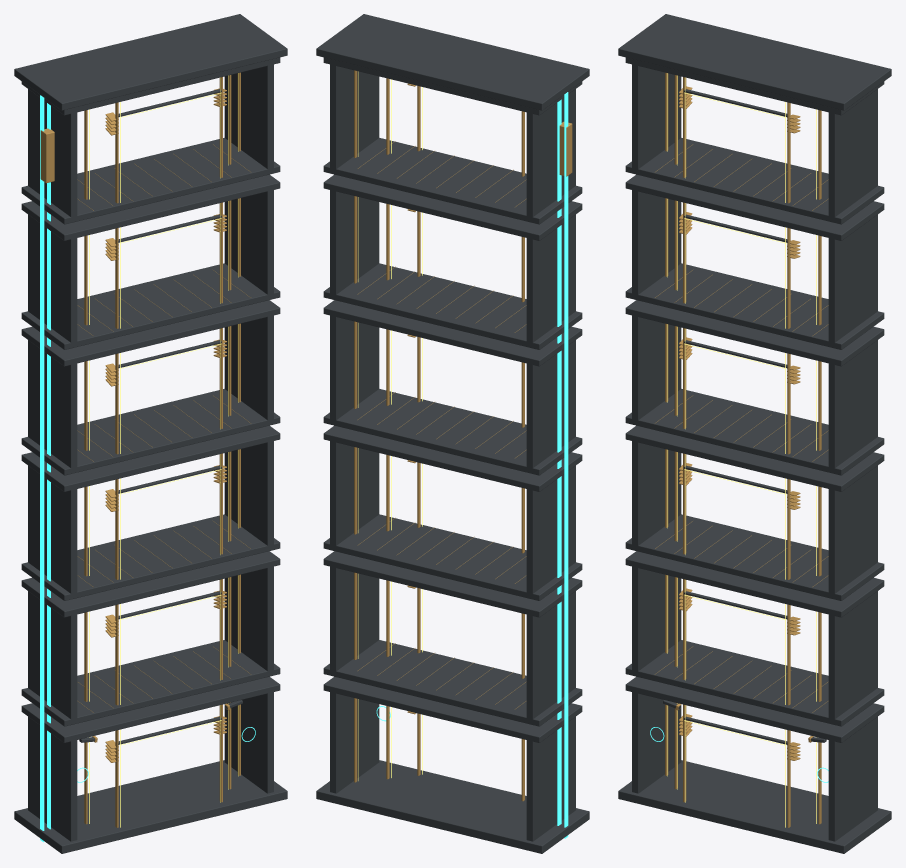
The model's file is tower.glb.
3 views of the same model, side by side, from view 1: azimuth 30°, elevation 25°; view 2: azimuth 150°, elevation 25°; view 3: azimuth 330°, elevation 25° (orthographic).
Parts seen in each view (by area): view 1: Roof, Foundation, Floor_4_slab, Floor_0_slab, Floor_2_slab, Floor_1_slab, Floor_3_slab, Floor_1_ceiling, Floor_3_ceiling, Floor_4_ceiling, Floor_2_ceiling, Floor_5_ceiling (+16 smaller); view 2: Roof, Foundation, Floor_0_slab, Floor_2_slab, Floor_4_slab, Floor_1_slab, Floor_3_slab, Floor_1_wall, Floor_4_wall, Floor_2_wall, Floor_3_wall, Floor_1_ceiling (+16 smaller); view 3: Roof, Foundation, Floor_2_slab, Floor_0_slab, Floor_1_slab, Floor_4_slab, Floor_3_slab, Floor_4_wall.001, Floor_1_wall.001, Floor_0_wall.001, Floor_2_wall.001, Floor_3_wall.001 (+13 smaller).
Part boxes in pixels (x1,y1,x2,y2): Roof: (14, 14, 287, 110); Foundation: (14, 760, 287, 853); Floor_4_slab: (21, 640, 280, 726); Floor_0_slab: (21, 138, 280, 224); Floor_2_slab: (21, 389, 280, 475); Floor_1_slab: (21, 263, 280, 349); Floor_3_slab: (21, 514, 280, 600); Floor_1_ceiling: (21, 174, 280, 240); Floor_3_ceiling: (21, 425, 280, 491); Floor_4_ceiling: (21, 551, 280, 617); Floor_2_ceiling: (21, 300, 280, 366); Floor_5_ceiling: (21, 676, 280, 742); Roof: (316, 14, 589, 110); Foundation: (316, 760, 589, 853); Floor_0_slab: (323, 138, 582, 224); Floor_2_slab: (323, 389, 582, 475); Floor_4_slab: (323, 640, 582, 726); Floor_1_slab: (323, 263, 582, 349); Floor_3_slab: (323, 514, 582, 600); Floor_1_wall: (526, 214, 575, 348); Floor_4_wall: (526, 591, 575, 724); Floor_2_wall: (526, 340, 575, 473); Floor_3_wall: (526, 465, 575, 593); Floor_1_ceiling: (323, 174, 582, 240); Roof: (618, 14, 891, 110); Foundation: (618, 760, 891, 853); Floor_2_slab: (625, 389, 884, 475); Floor_0_slab: (625, 138, 884, 224); Floor_1_slab: (625, 263, 884, 349); Floor_4_slab: (625, 640, 884, 726); Floor_3_slab: (625, 514, 884, 600); Floor_4_wall.001: (828, 591, 877, 724); Floor_1_wall.001: (828, 214, 877, 348); Floor_0_wall.001: (828, 89, 877, 222); Floor_2_wall.001: (828, 340, 877, 473); Floor_3_wall.001: (828, 465, 877, 593).
Bounding box in the file's own units: 11.5 × 36.63 × 4.2.
